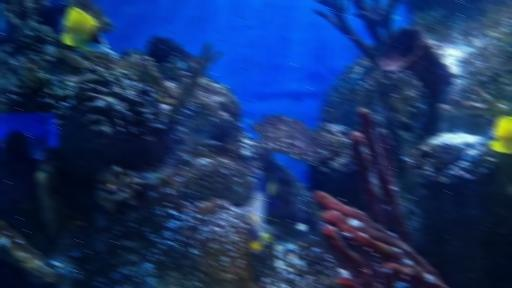Fish: (246, 173, 277, 252), (61, 7, 109, 50), (489, 116, 512, 153)
